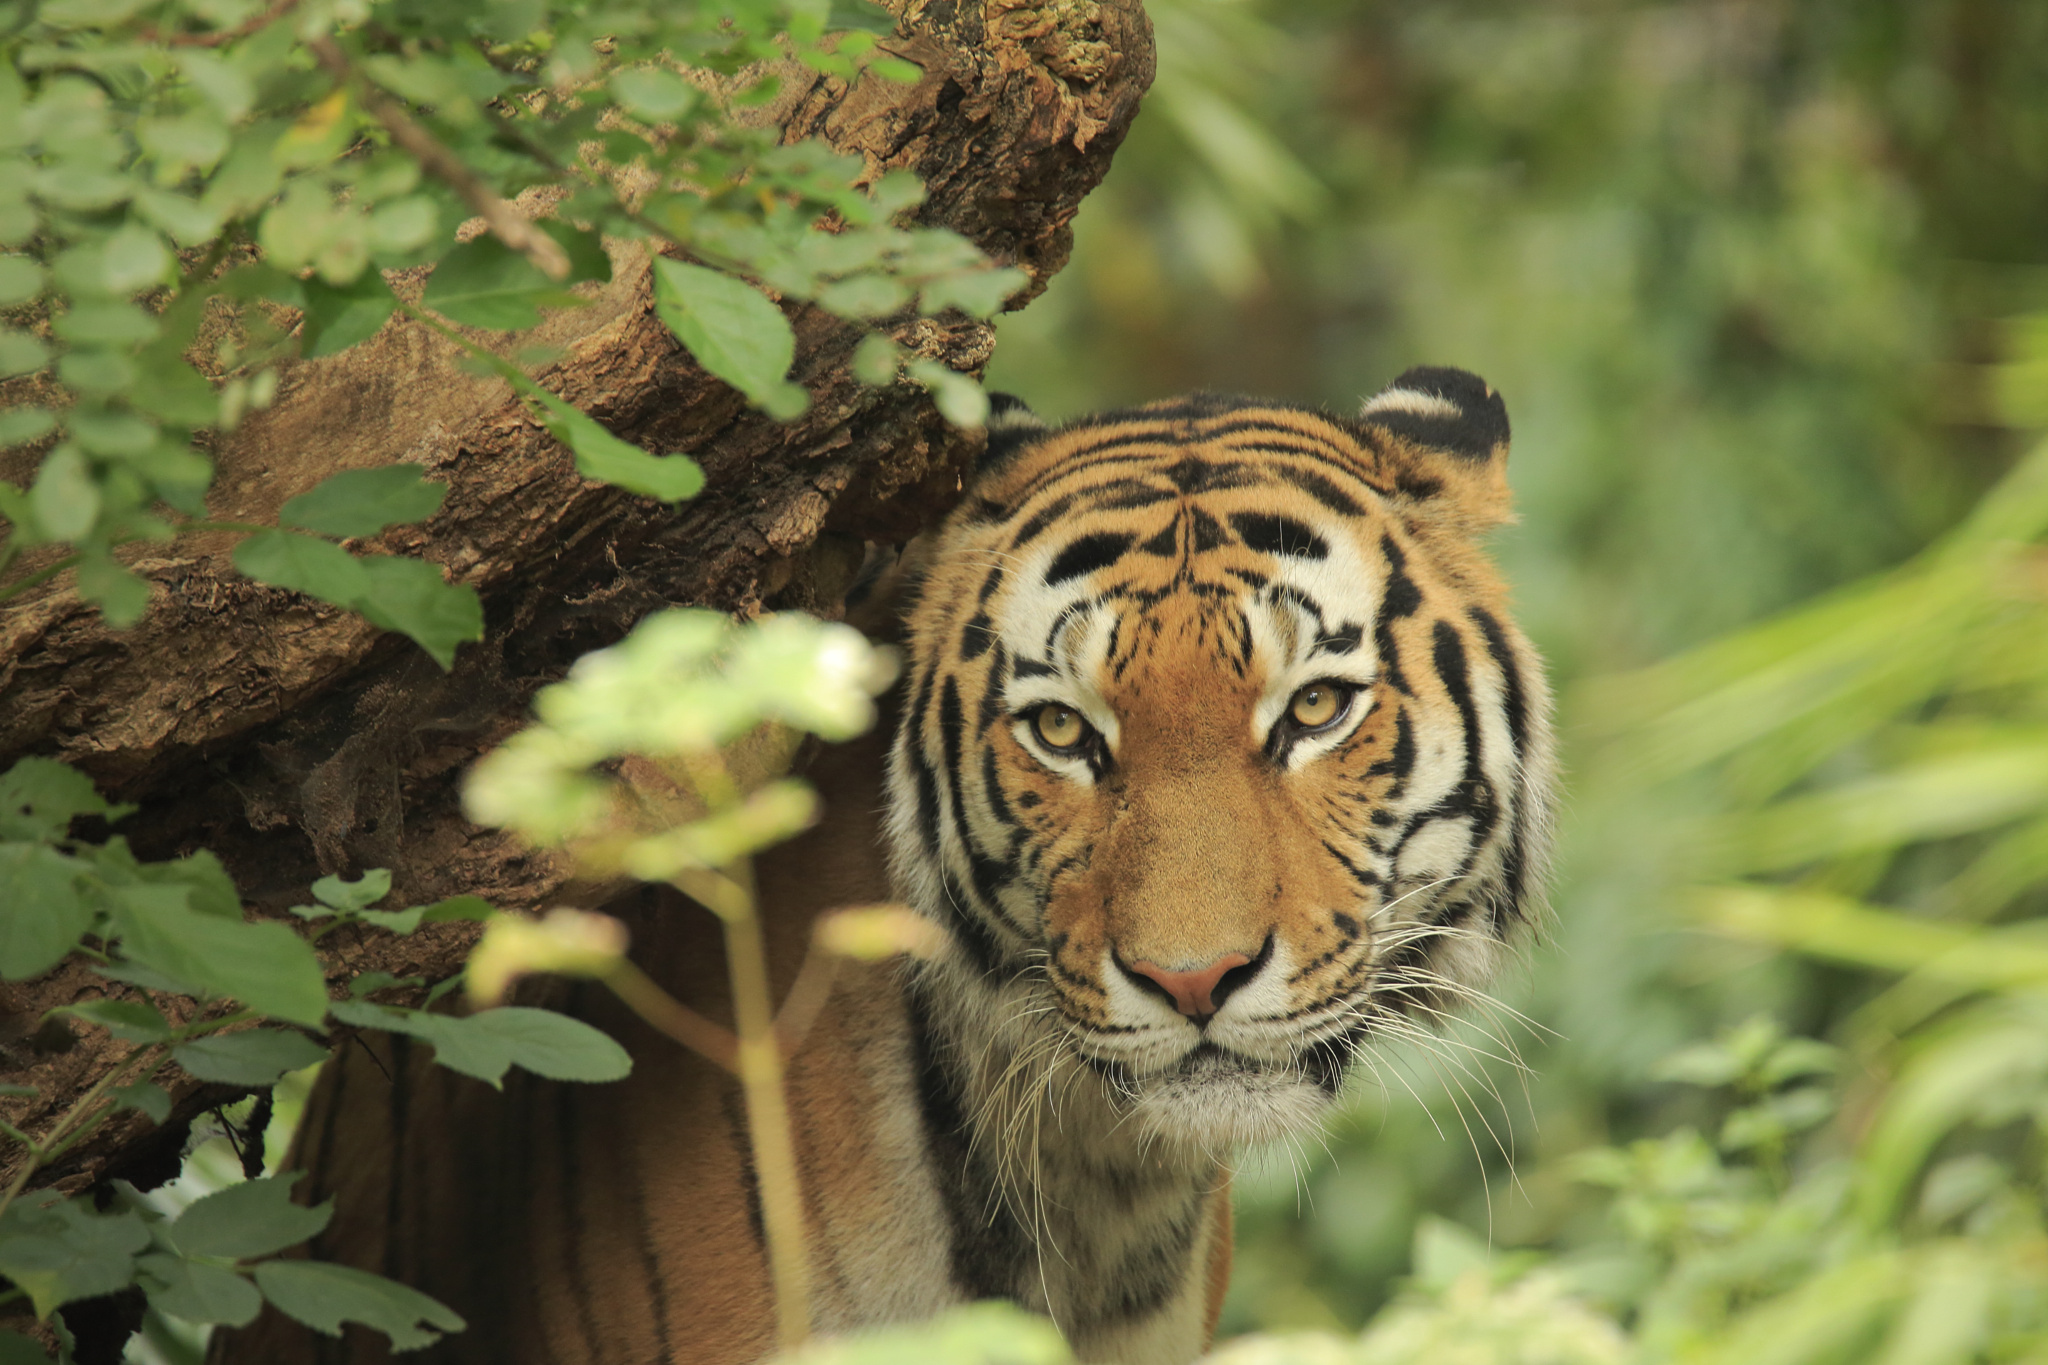tiger: (600, 379, 1666, 1284)
